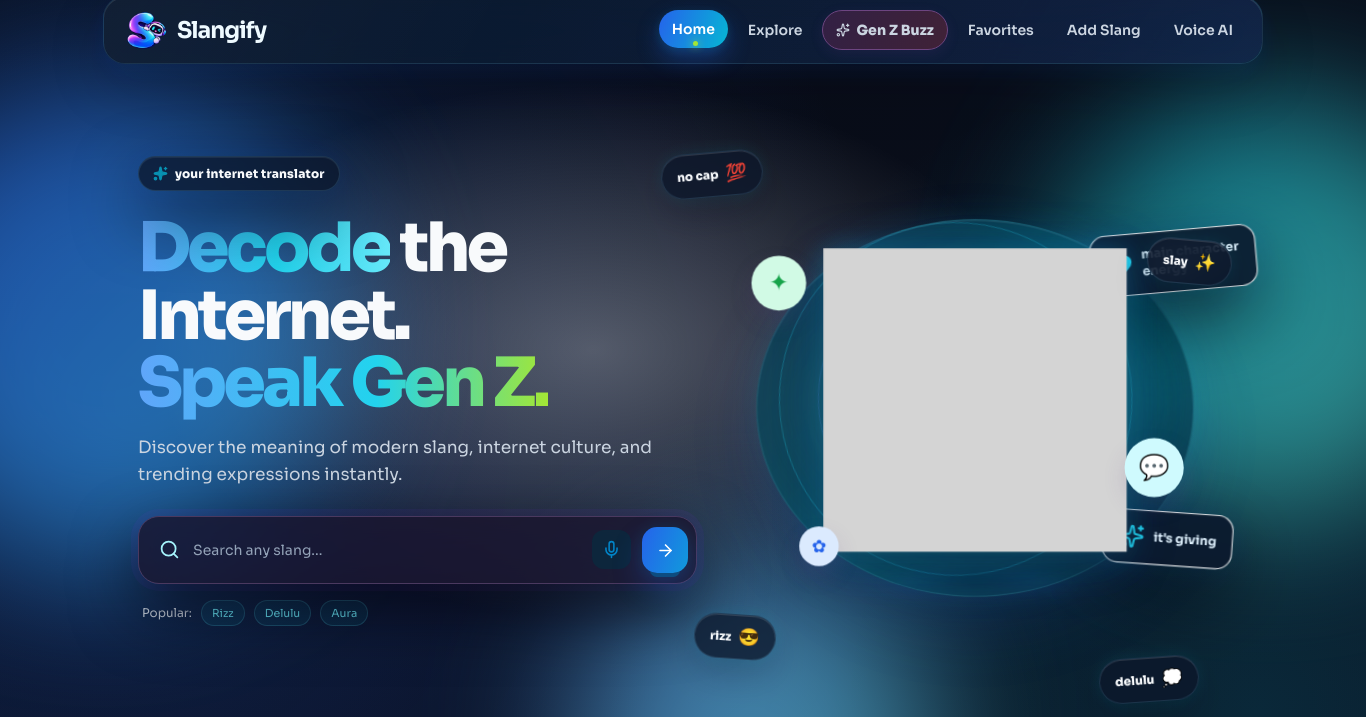
Test: a late homepage search cannot replace newer results
Check: the button with class "search-submit" is enabled, box [642, 527, 688, 573]
Step 1. Click the button "Rizz" → (223, 613), box [201, 600, 245, 626]
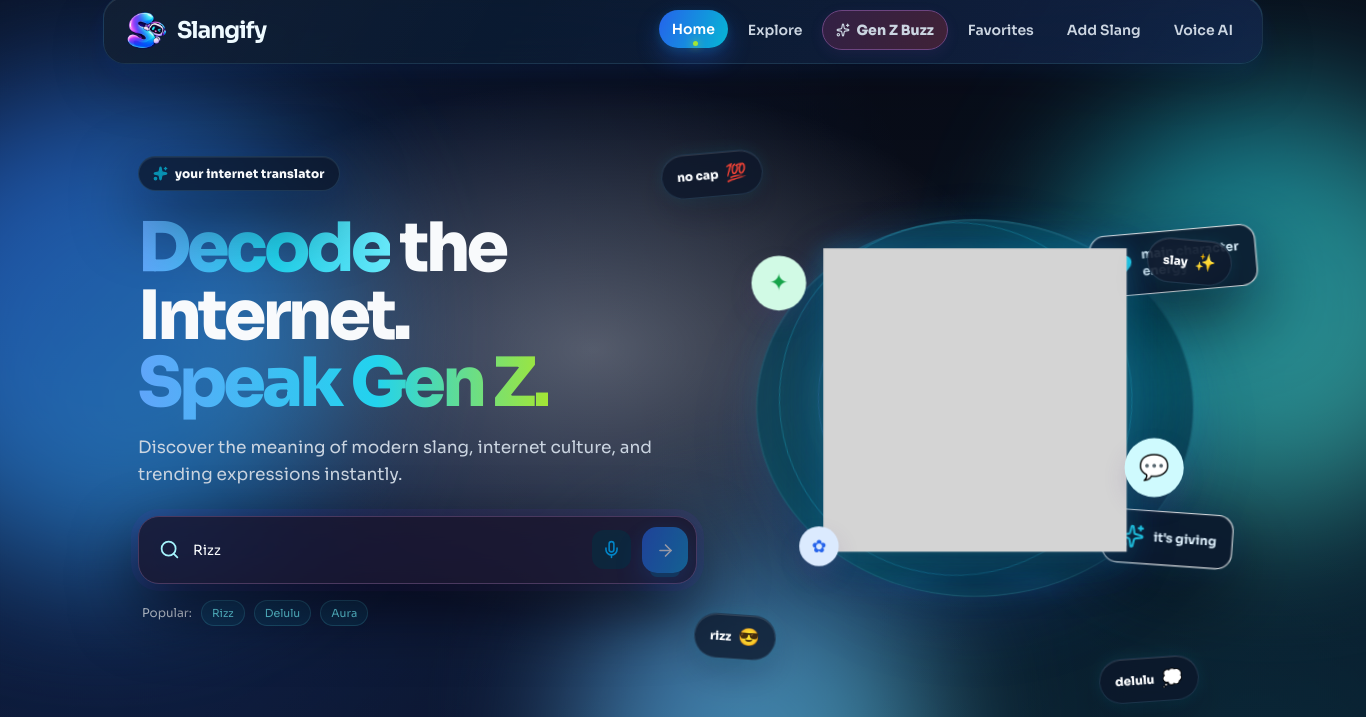
Step 2. Click the button "Delulu" → (282, 613), box [254, 600, 311, 626]
(page scrolled)
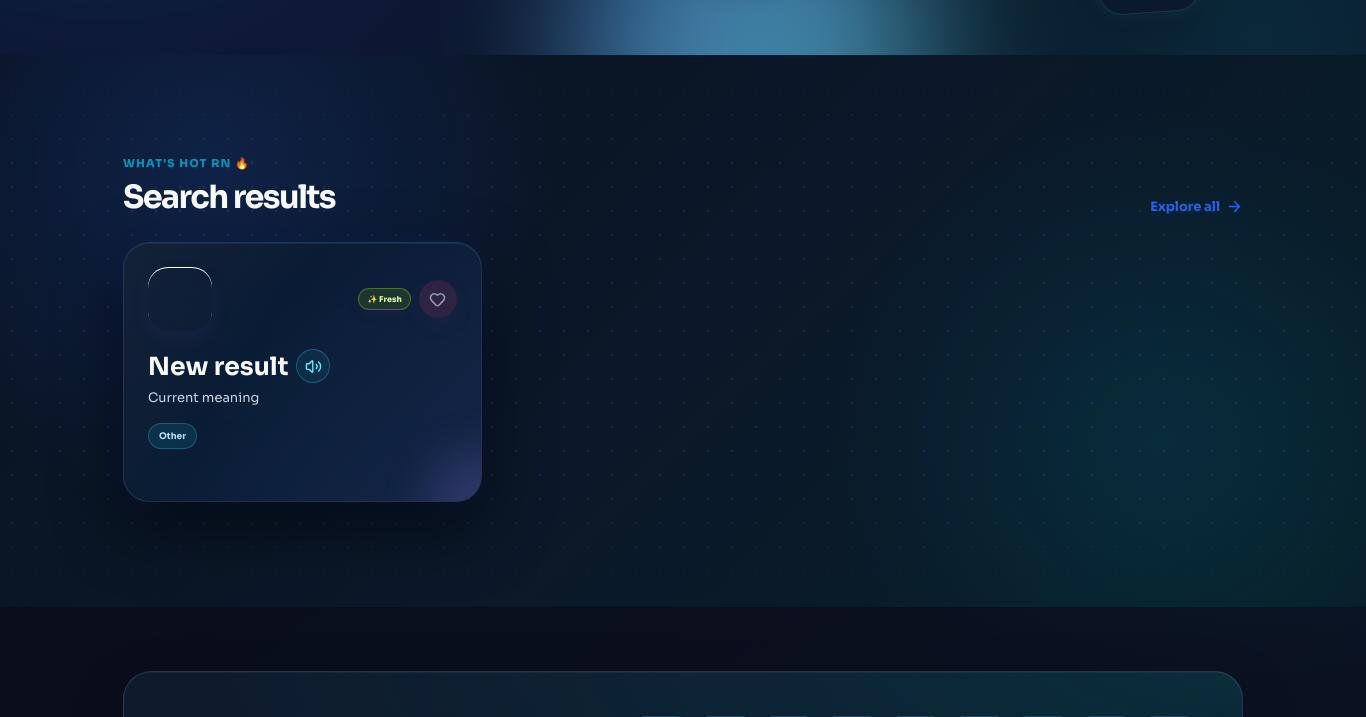
Check: the heading "New result" is shown, box [148, 351, 288, 382]
